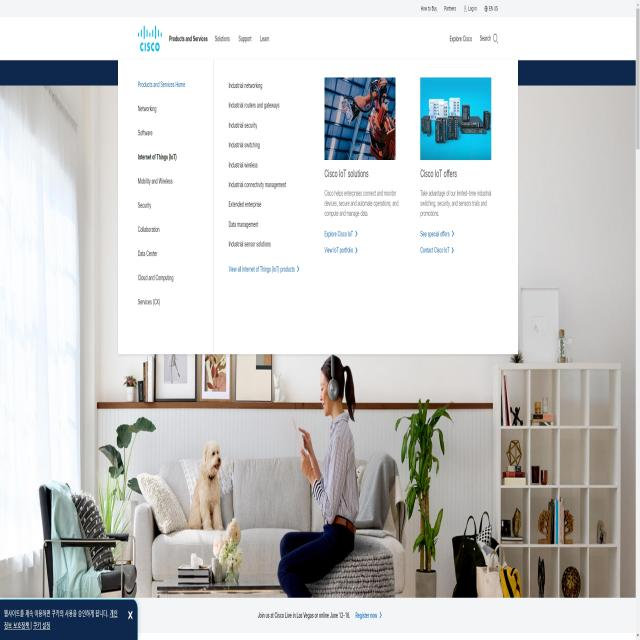menu-bar: (417, 2, 498, 20)
menu-panel: (126, 66, 196, 326)
tab-bar: (168, 25, 272, 45)
